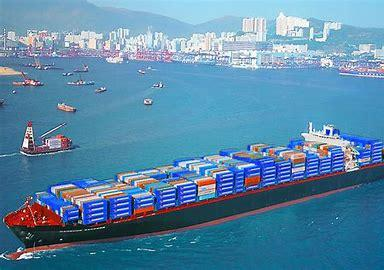Ship: (4, 119, 384, 262)
